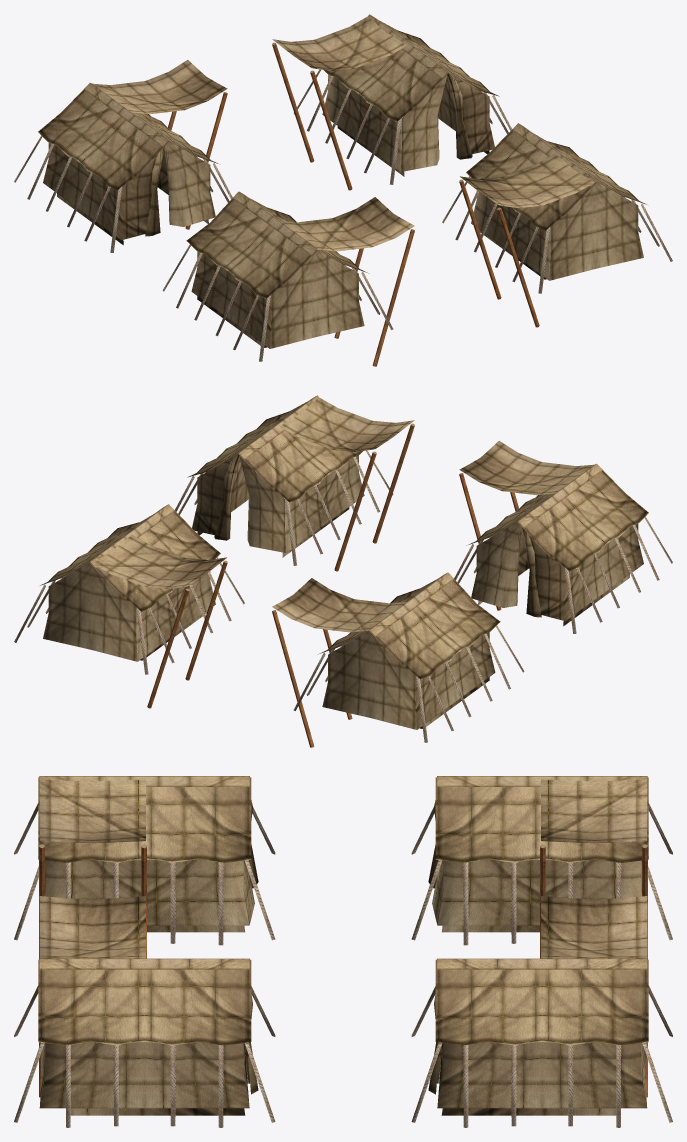
Rendered from rome_camp_tents.dae.
3 views of the same model, one above another, from view 1: azimuth 30°, elevation 25°; view 2: azimuth 150°, elevation 25°; view 3: azimuth 270°, elevation 25° (orthographic). The views are drawn at different scales.
Parts seen in each view (by area): view 1: rome_sb_tent; view 2: rome_sb_tent; view 3: rome_sb_tent.
Boxes of the visible parts, bbox=[...] form: rome_sb_tent: bbox=[14, 14, 672, 366]; rome_sb_tent: bbox=[14, 395, 672, 747]; rome_sb_tent: bbox=[14, 776, 672, 1127].
Size of the model in its own units: 22.16 by 6.58 by 22.14.
